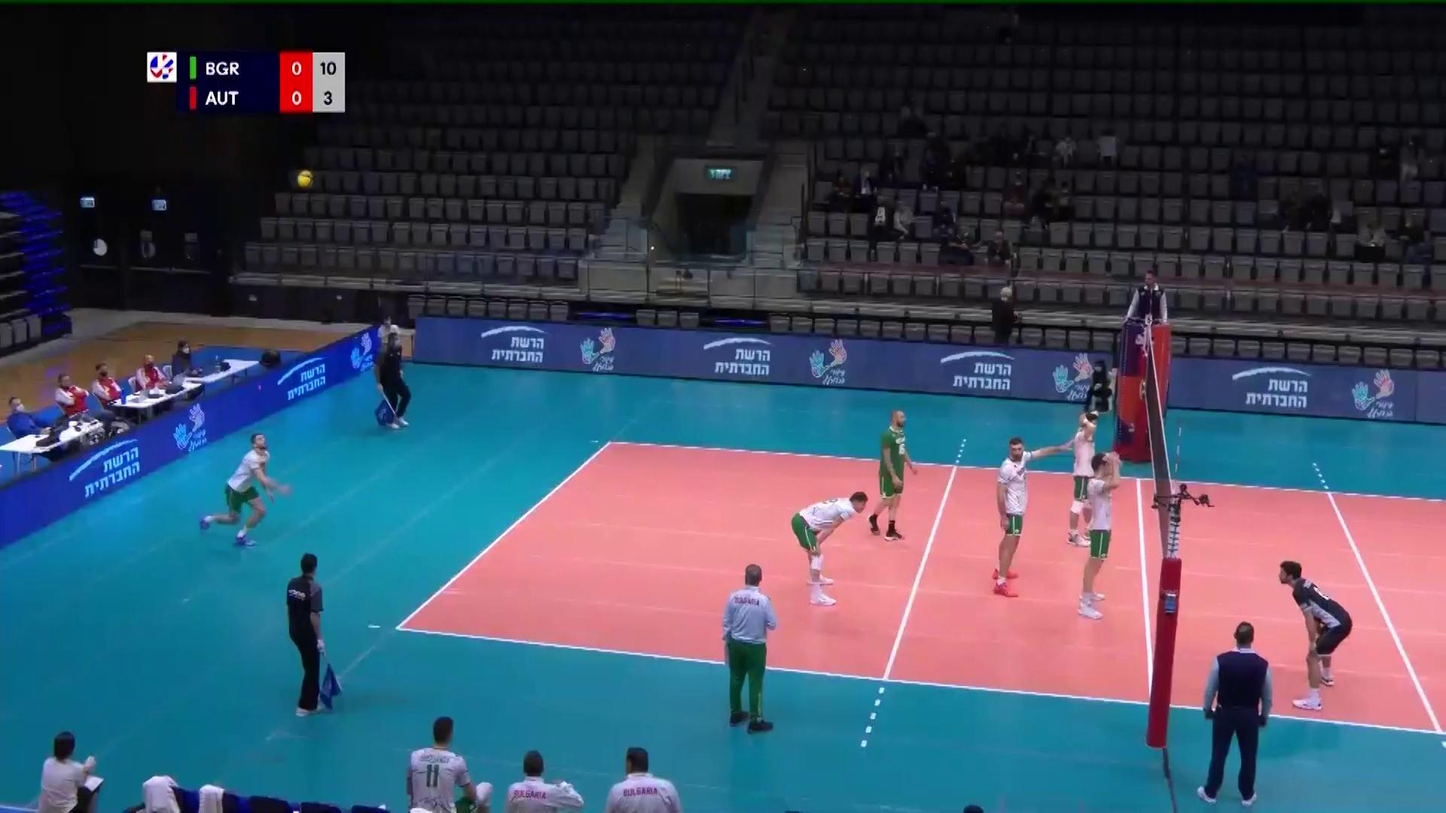ball: (296, 171, 312, 187)
